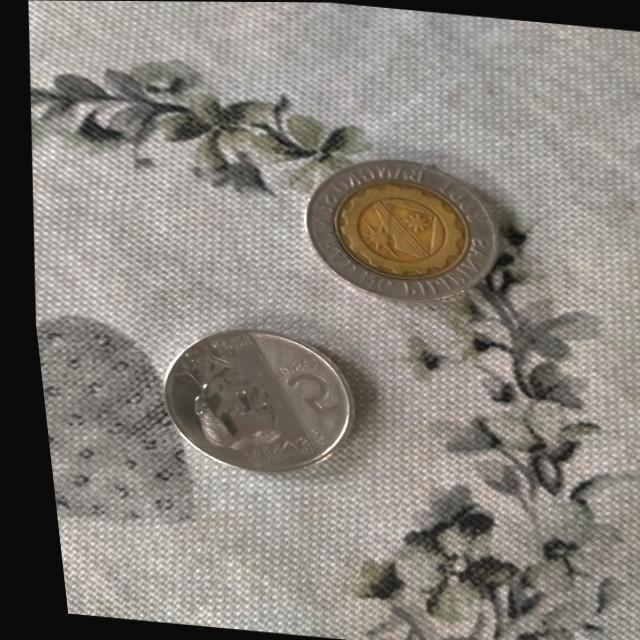10_Old_Back: (285, 150, 505, 309)
5_New_Front: (268, 347, 341, 412)
